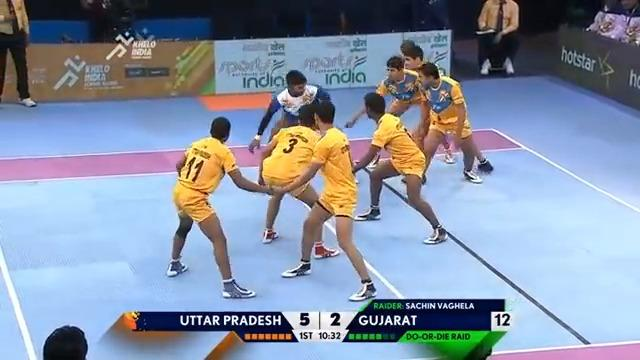Player: (163, 113, 276, 300), (277, 99, 378, 302), (348, 90, 449, 245), (412, 60, 494, 185), (375, 63, 426, 112), (399, 37, 437, 65)
Raider: (263, 68, 324, 126)
referee: (0, 0, 37, 107), (474, 0, 520, 76)
